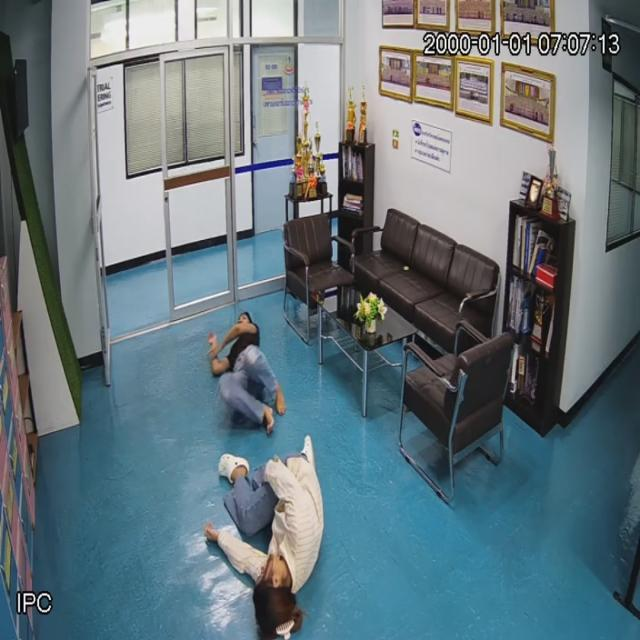fall: (206, 441, 324, 632), (210, 310, 282, 434)
